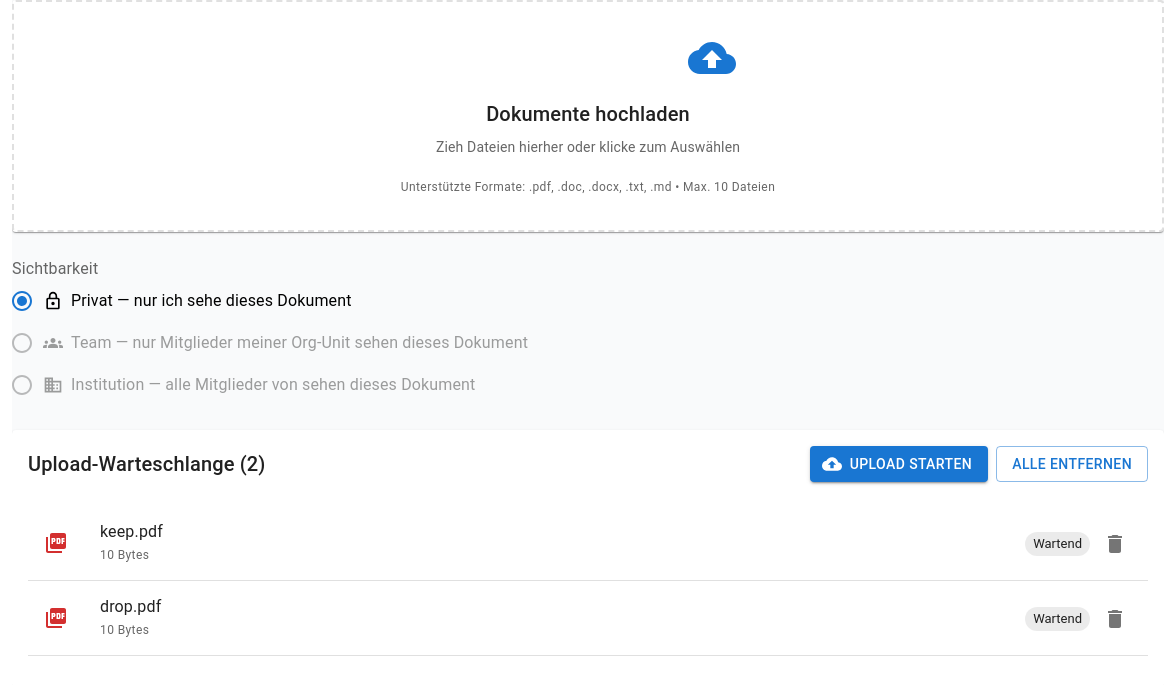
DocumentUpload › Upload queue › removes a single file from the queue
The image size is (1164, 685).
Click the button titled "Entfernen" in the row of "drop.pdf" at point(1115, 619), box x1=1098 y1=602 x2=1132 y2=636
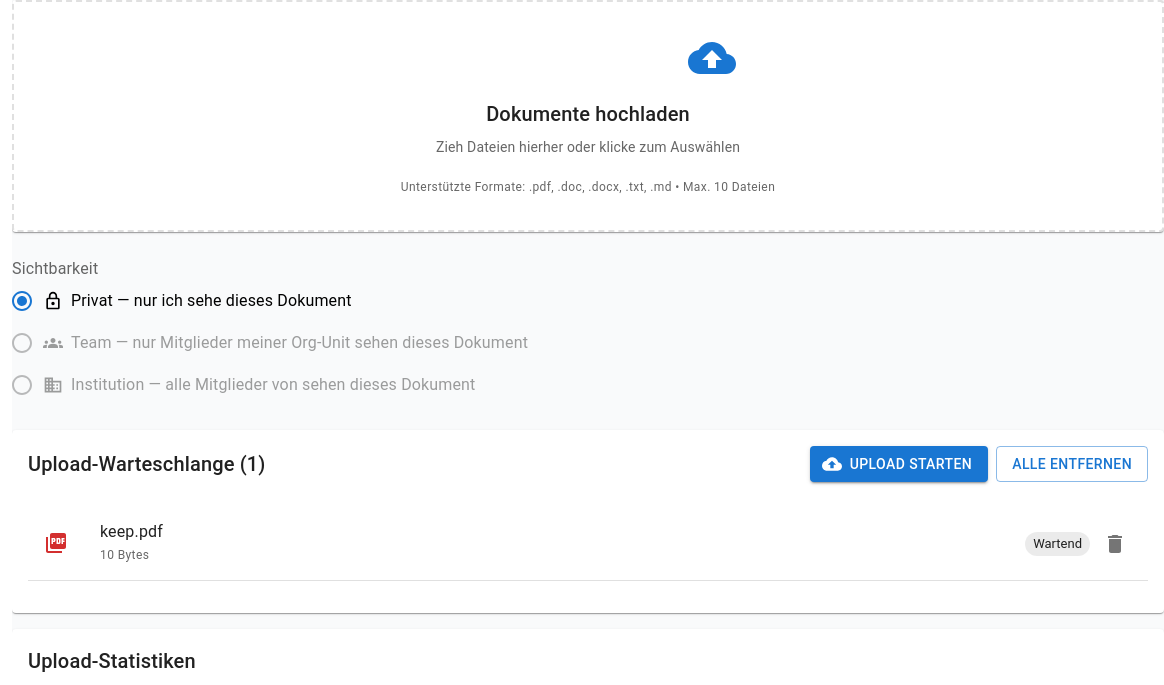
Expected: the text "keep.pdf" is shown, x1=100 y1=522 x2=163 y2=541
Now the text "drop.pdf" is gone
Now the heading "Upload-Warteschlange (1)" is shown, box x1=28 y1=448 x2=266 y2=480
